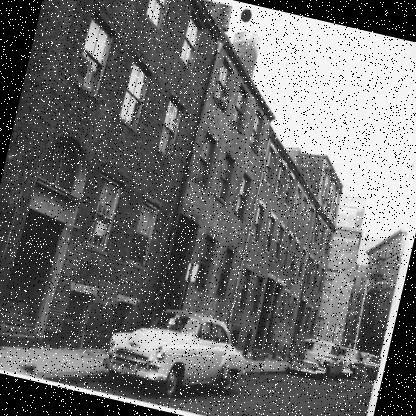Car: (102, 298, 253, 414), (286, 334, 347, 382), (332, 346, 368, 381), (356, 352, 384, 382)
